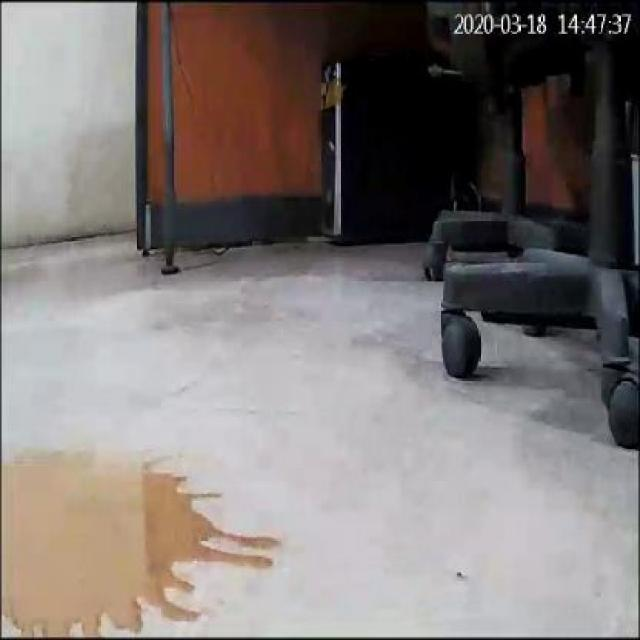spill: (2, 446, 282, 634)
